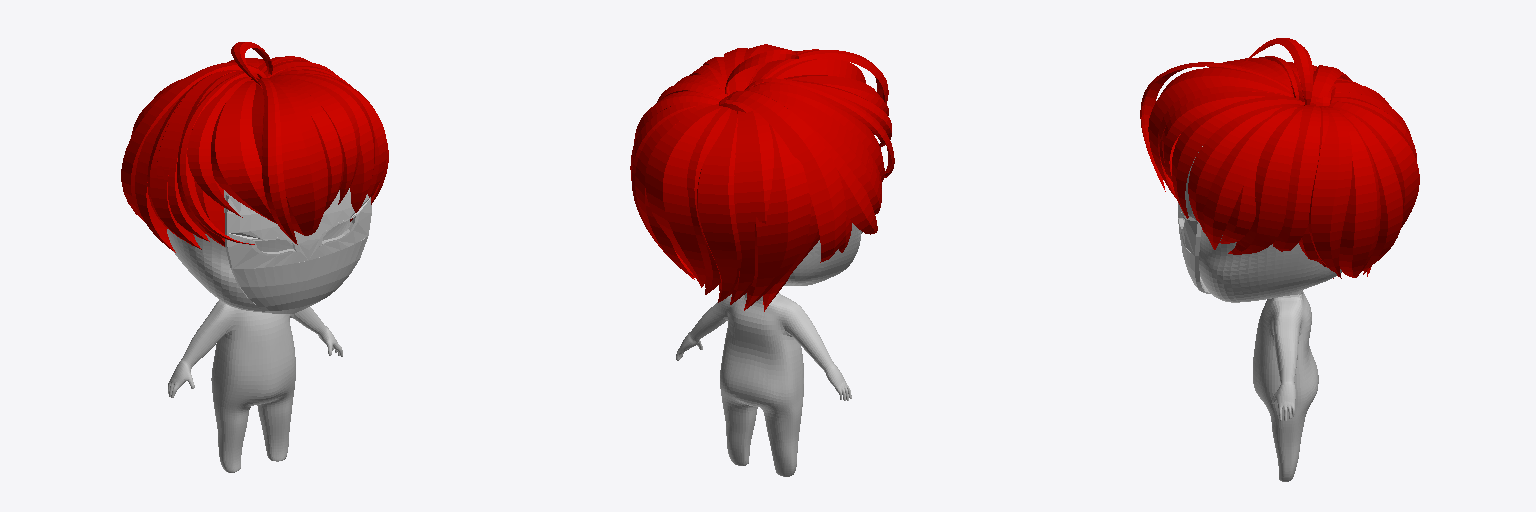
File: Arthur.obj
The picture shows the model from 3 angles: view 1: azimuth 30°, elevation 25°; view 2: azimuth 150°, elevation 25°; view 3: azimuth 270°, elevation 25°; orthographic projection.
Visible parts, largest first — view 1: Hair, Cube, Mask; view 2: Hair, Cube; view 3: Hair, Cube, Mask.
Part boxes in pixels (x1,y1,x2,y2): Hair: (121, 42, 388, 252); Cube: (167, 190, 351, 472); Mask: (225, 188, 371, 313); Hair: (630, 44, 894, 311); Cube: (676, 223, 860, 476); Hair: (1140, 38, 1419, 278); Cube: (1199, 230, 1341, 481); Mask: (1178, 146, 1210, 293).
Size of the model in its own units: 1.9 by 3.53 by 2.12.